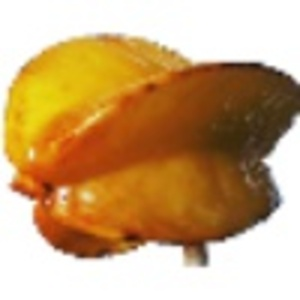carambola: (1, 27, 300, 269)
